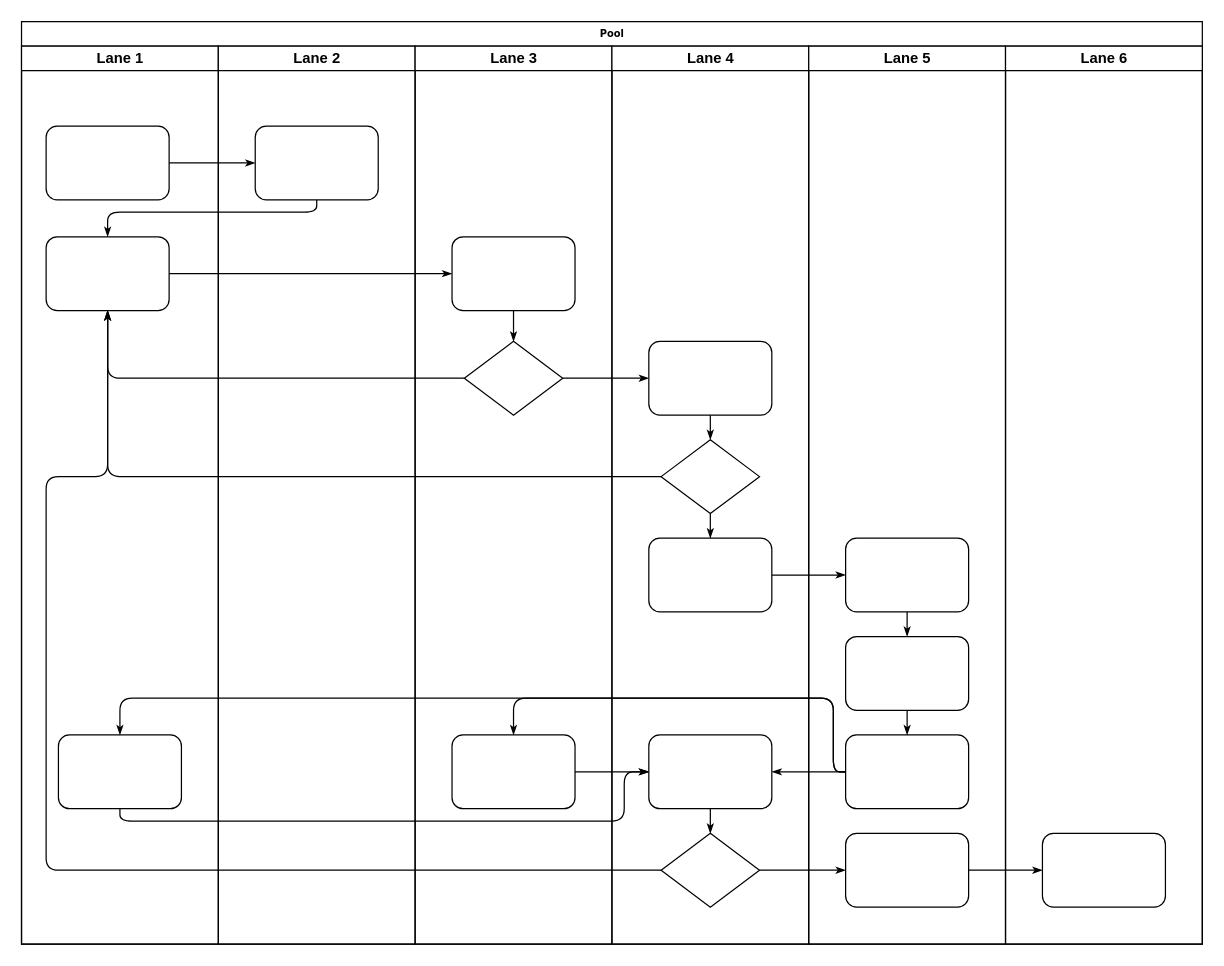
Image size: 1224x966. Some labels were removed from this diagram. Each missing label, with the centre of its shape:
Inspect Data for proper format & NaN: the point at 316,162
Receive data from client: the point at 107,162
